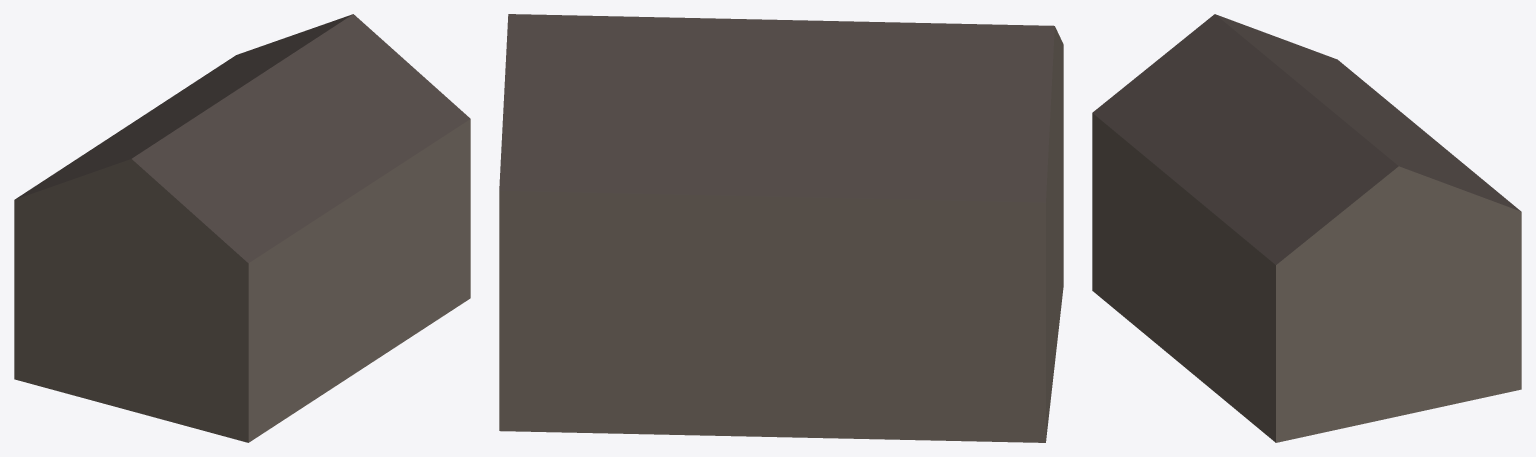
The picture shows the model from 3 angles, left to right: view 1: azimuth 30°, elevation 25°; view 2: azimuth 150°, elevation 25°; view 3: azimuth 270°, elevation 25°; orthographic projection. The views are drawn at different scales.
Visible parts, largest first — view 1: HP-w378107223; view 2: HP-w378107223; view 3: HP-w378107223.
Part boxes in pixels (x1,y1,x2,y2): HP-w378107223: (14,14,470,442); HP-w378107223: (499,14,1063,442); HP-w378107223: (1092,14,1521,442).
Size of the model in its own units: 14.89 by 8.44 by 13.14.
